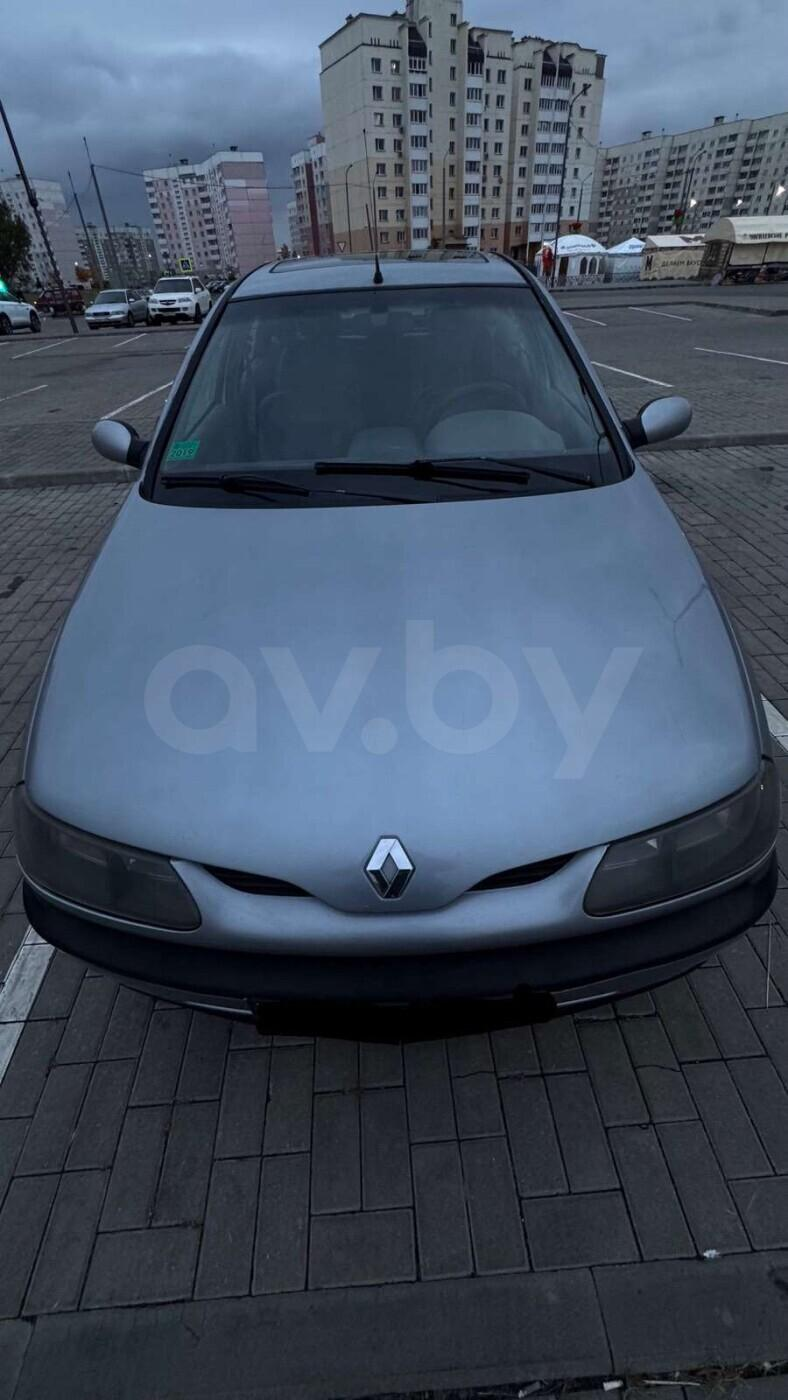Laguna_1998-2001: (12, 250, 788, 1042)
